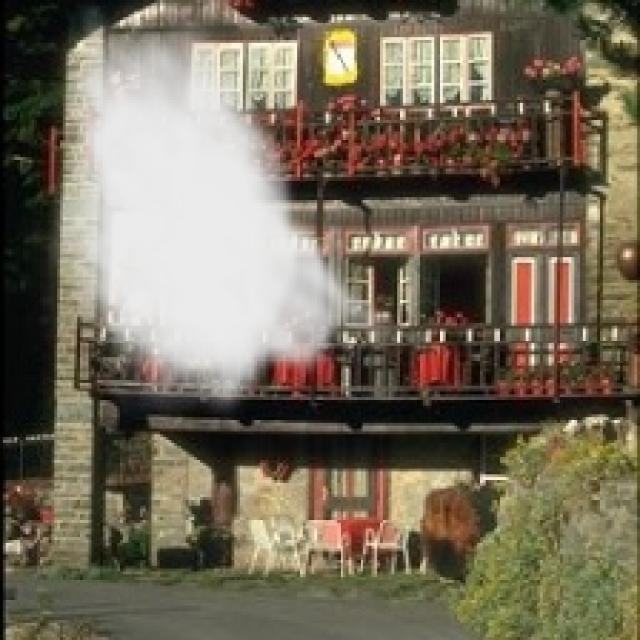smoke: (46, 0, 406, 423)
